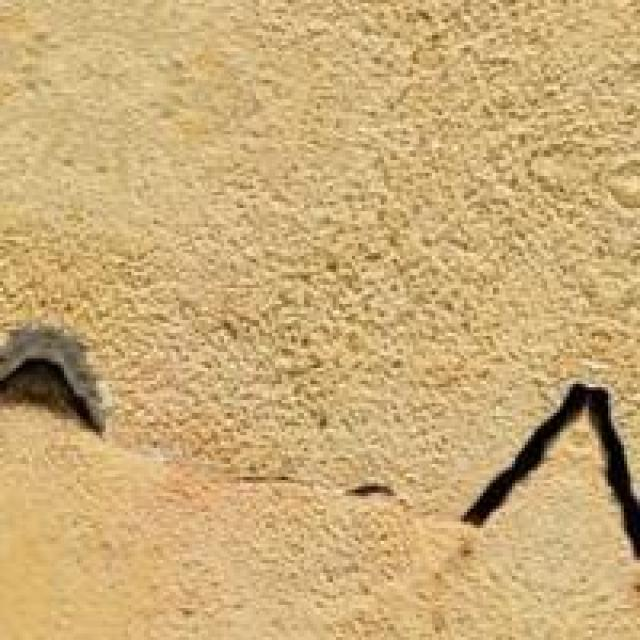crack: (0, 243, 637, 595)
